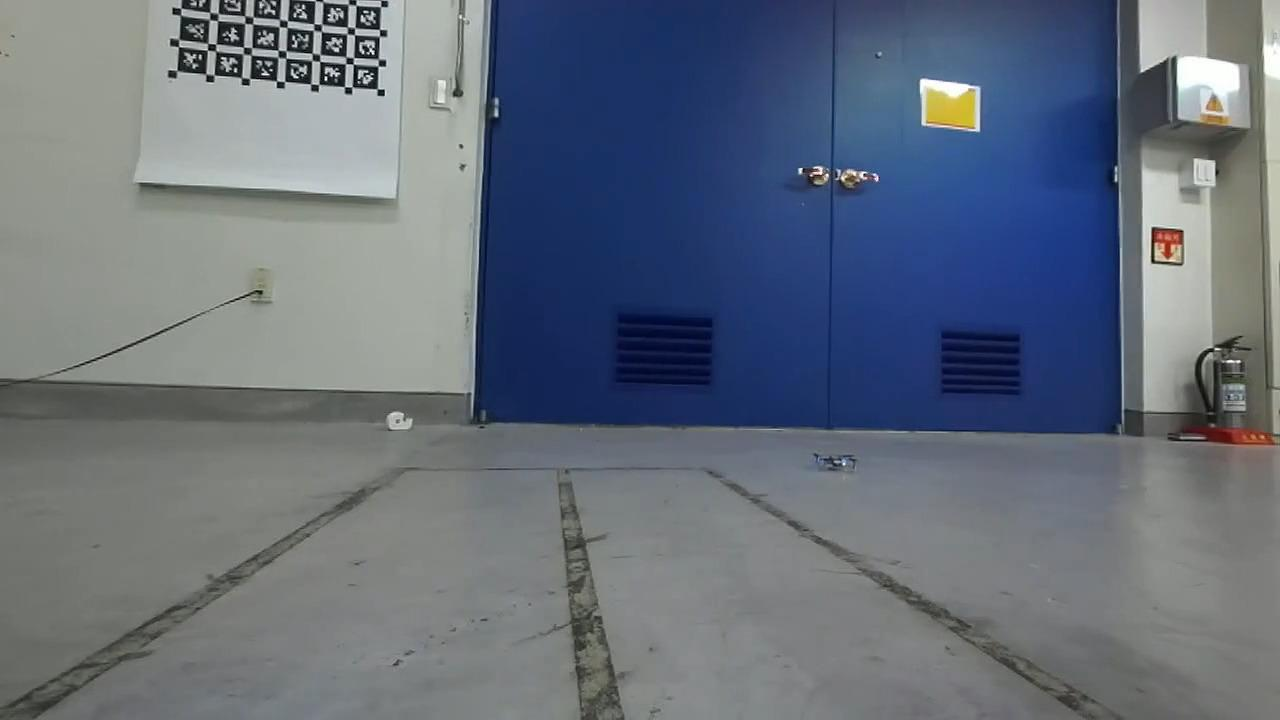crazyflie: (808, 447, 867, 478)
